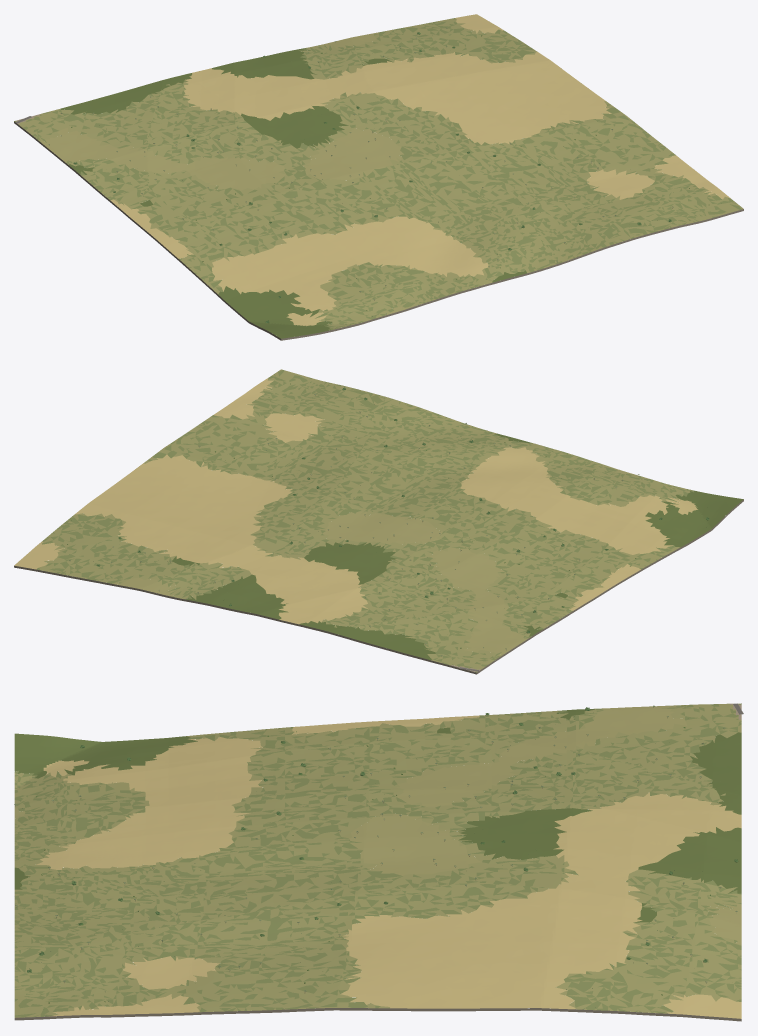
Rendered from parca_+0_-3-yakin.glb.
3 views of the same model, one above another, from view 1: azimuth 30°, elevation 25°; view 2: azimuth 150°, elevation 25°; view 3: azimuth 270°, elevation 25° (orthographic). The views are drawn at different scales.
Visible parts, largest first — view 1: parca_+0_-3_arazi, parca_+0_-3_bitkiler; view 2: parca_+0_-3_arazi, parca_+0_-3_bitkiler; view 3: parca_+0_-3_arazi, parca_+0_-3_bitkiler.
Part boxes in pixels (box(x1,y1,x2,y2)): parca_+0_-3_arazi: box(14, 14, 743, 340); parca_+0_-3_bitkiler: box(48, 27, 709, 322); parca_+0_-3_arazi: box(14, 369, 743, 674); parca_+0_-3_bitkiler: box(67, 383, 709, 656); parca_+0_-3_arazi: box(14, 703, 741, 1021); parca_+0_-3_bitkiler: box(14, 705, 737, 1015).
Bounding box in the file's own units: 1000 × 79.96 × 1004.
